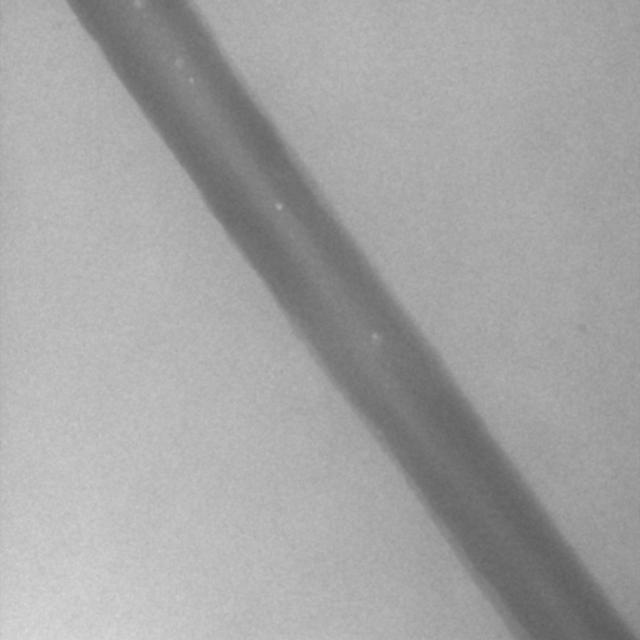air-hole: (130, 0, 141, 9), (373, 326, 378, 336), (175, 58, 181, 66), (188, 78, 196, 84), (276, 202, 282, 210)
